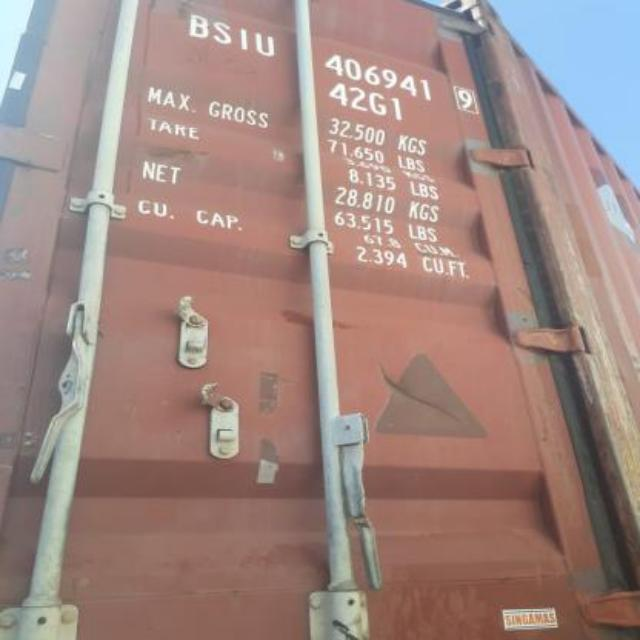0: (342, 45, 362, 85)
1: (420, 73, 436, 105)
4: (398, 66, 418, 98), (323, 47, 341, 79)
6: (361, 56, 379, 88)
9: (452, 86, 480, 116), (381, 59, 399, 91)
B: (186, 8, 208, 44)
I: (232, 18, 252, 56)
S: (208, 13, 230, 49)
U: (251, 23, 275, 61)
